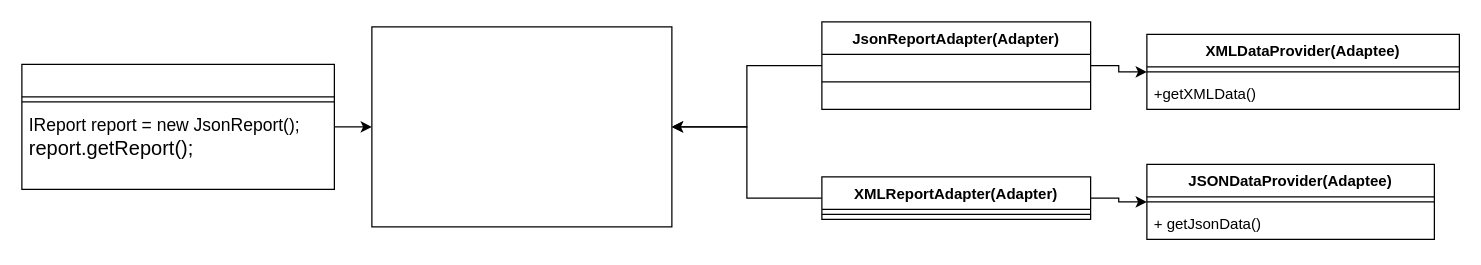
Some shapes in this 1481 by 265 pixel diagram are drawn without their labels. Each missing label, with the box of its shape:
<<Interface>> IReport + getReport(): (371, 26, 672, 227)
Client: (21, 63, 334, 189)
